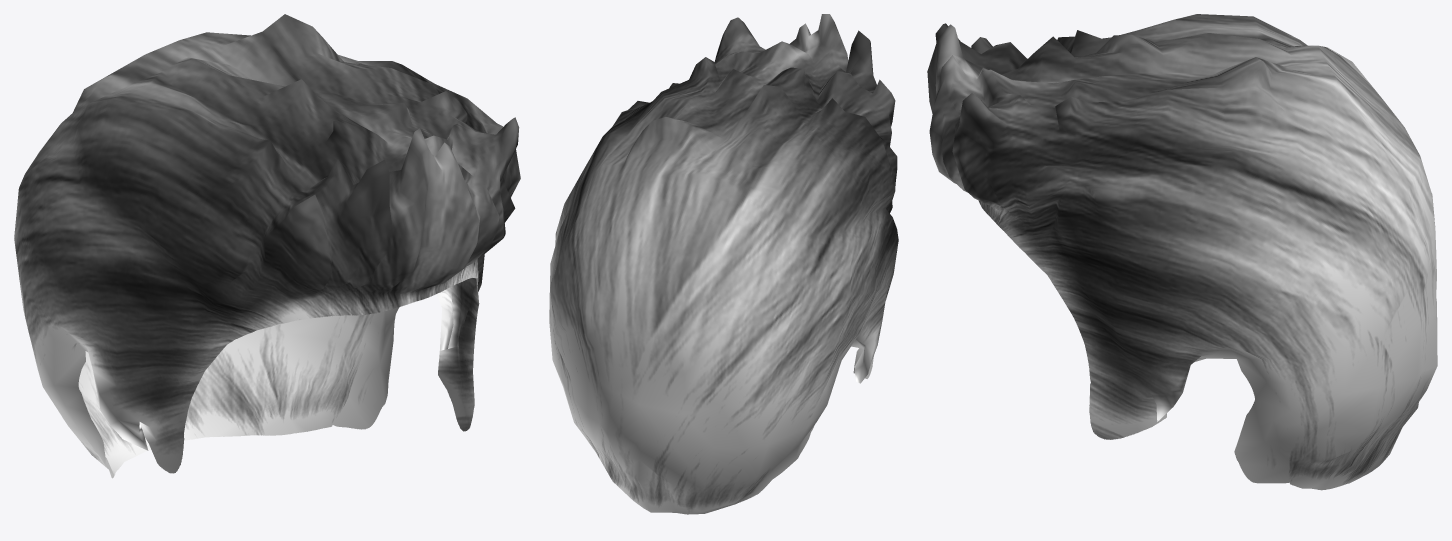
The model's file is hair_maxwell_m_light.glb.
3 views of the same model, side by side, from view 1: azimuth 30°, elevation 25°; view 2: azimuth 150°, elevation 25°; view 3: azimuth 270°, elevation 25° (orthographic). The views are drawn at different scales.
Parts seen in each view (by area): view 1: haircards; view 2: haircards; view 3: haircards.
Part boxes in pixels (x1,y1,x2,y2): haircards: (14,14,520,478); haircards: (549,14,898,514); haircards: (927,14,1437,490).
Size of the model in its own units: 0.1765 by 0.2183 by 0.2195.
Materials: 1 (1 with a texture image).
